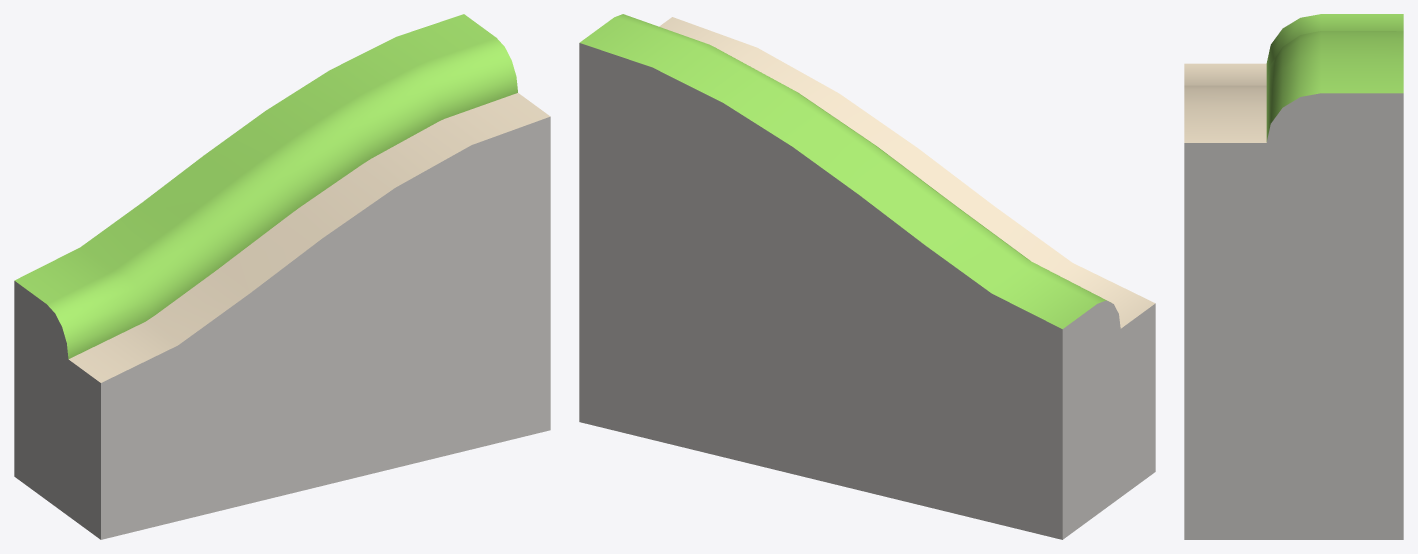
Rendered from InclinePathPlatformEdge.glb.
The picture shows the model from 3 angles, left to right: view 1: azimuth 30°, elevation 25°; view 2: azimuth 150°, elevation 25°; view 3: azimuth 270°, elevation 25°; orthographic projection. The views are drawn at different scales.
Parts seen in each view (by area): view 1: Hidden, Path; view 2: Hidden, Path; view 3: Hidden, Path.
Part boxes in pixels (<box>): Hidden: <box>14,116,550,539</box>; Path: <box>14,14,550,382</box>; Hidden: <box>579,43,1155,539</box>; Path: <box>579,14,1155,328</box>; Hidden: <box>1184,93,1403,539</box>; Path: <box>1184,14,1403,142</box>.
Bounding box in the file's own units: 3 × 2.25 × 1.
